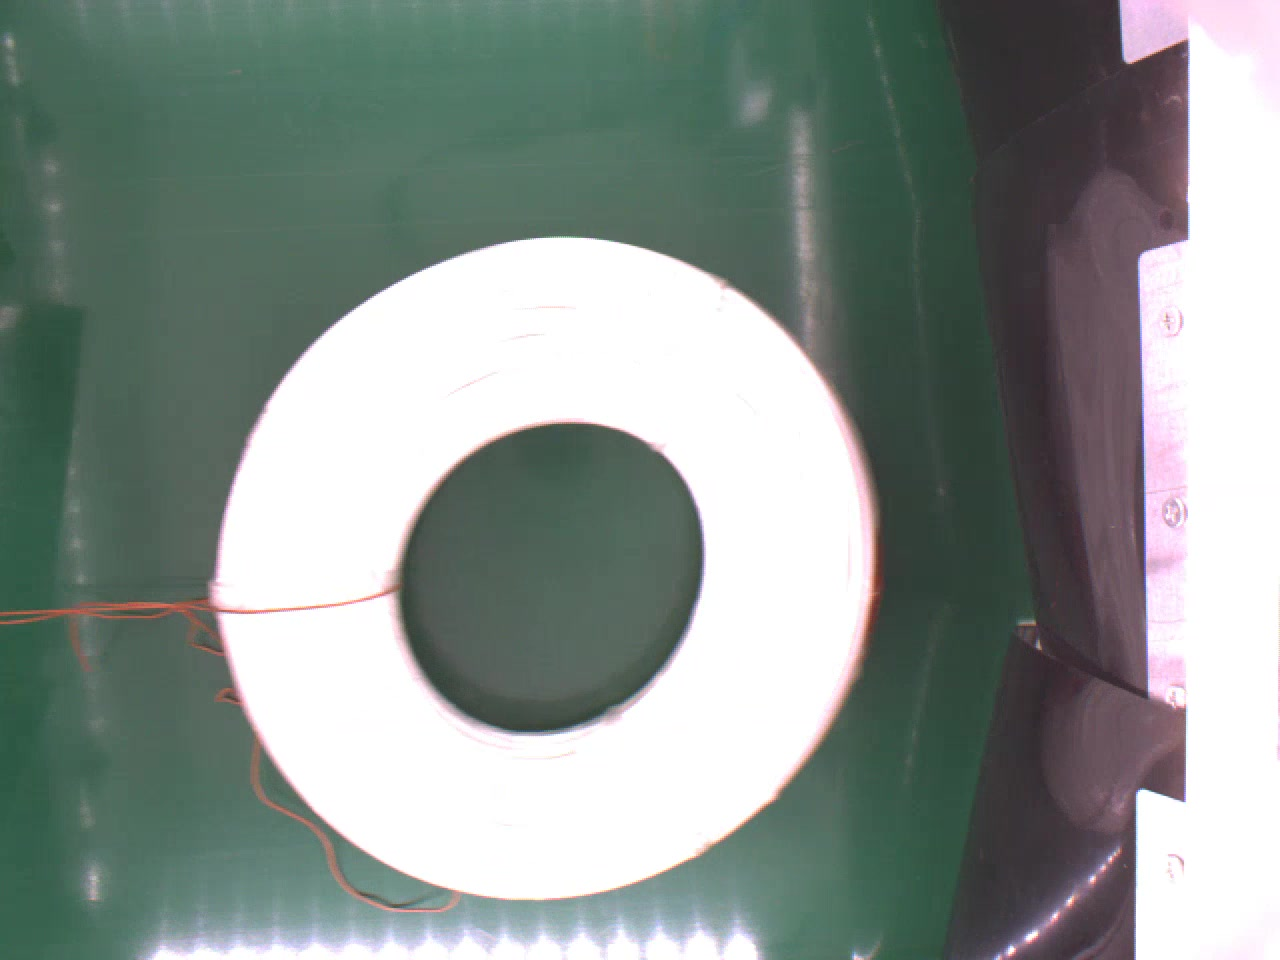white: (210, 230, 884, 899)
